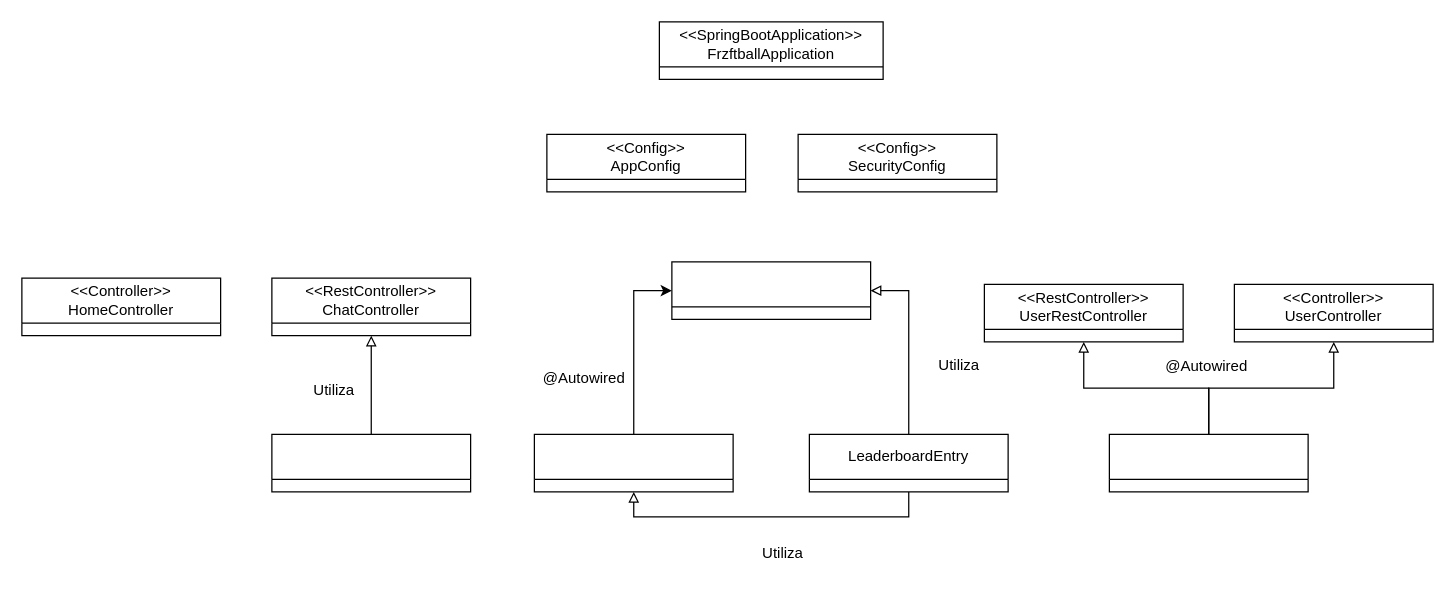
This 1455x594 diagram has some shape labels left out. The box of each missing label's shape, as (x1, y1, x2, y2) in pixels:
<<RestController>> LeaderboardsController: (671, 261, 871, 319)
<<Service>> LeaderboardService: (533, 433, 733, 492)
<<Service>> UserList: (1108, 433, 1308, 492)
ChatMessage: (271, 433, 471, 492)
